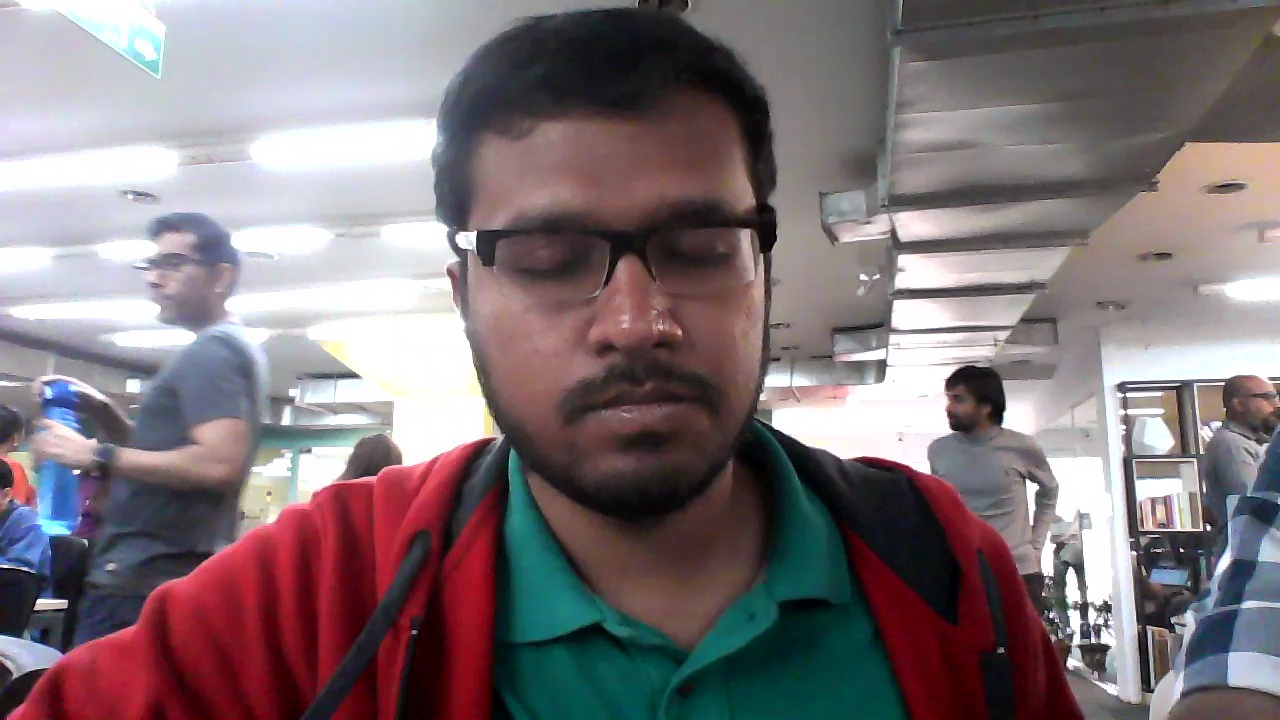closed: (420, 9, 791, 523)
